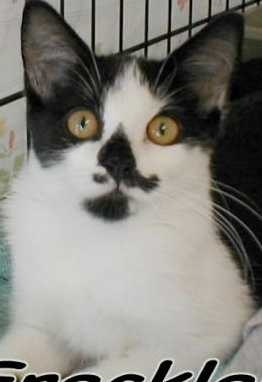Cat: (5, 62, 261, 381), (21, 0, 243, 220)
